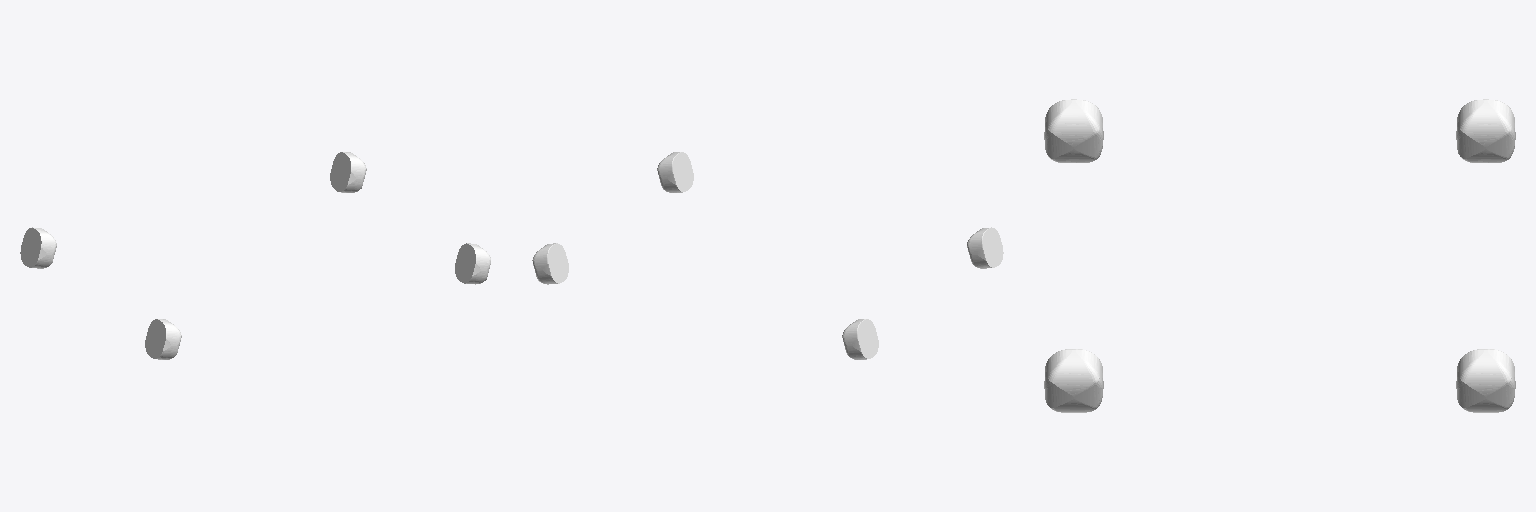
URDF robot description (TOE_dog):
<?xml version="1.0" encoding="utf-8"?>
<!-- This URDF was automatically created by SolidWorks to URDF Exporter! Originally created by [author] ([email redacted]) 
     Commit Version: 1.6.0-4-g7f85cfe  Build Version: 1.6.7995.38578
     For more information, please see http://wiki.ros.org/sw_urdf_exporter -->
<robot
  name="TOE_dog">
  <mujoco>
  <compiler 
    meshdir="[local-path]/my_dog/commpany/meshes/" 
    balanceinertia="true" 
    discardvisual="false" />
  </mujoco>
  <link
    name="base">
    <inertial>
      <origin
        xyz="-0.0032287234218103 7.70734400253109E-05 -0.00141709330891995"
        rpy="0 0 0" />
      <mass
        value="4.991" />
      <inertia
        ixx="0.05968549"
        ixy="0.00018883"
        ixz="0.00001699"
        iyy="0.06664420"
        iyz="-0.00008124"
        izz="0.01660556" />
    </inertial>
    <visual>
      <origin
        xyz="0 0 0"
        rpy="0 0 0" />
      <geometry>
        <mesh
          filename="../stl/TOE_base.STL" />
      </geometry>
      <material
        name="">
        <color
          rgba="0.752941176470588 0.752941176470588 0.752941176470588 1" />
      </material>
    </visual>
    <collision>
      <origin
        xyz="0 0 0"
        rpy="0 0 0" />
      <geometry>
        <box size="0.27 0.15 0.114" />
      </geometry>
    </collision>
  </link>
  <link
    name="FL_hip">
    <inertial>
      <origin
        xyz="-0.000462628009896944 0.00296787906267088 -0.000377200721687631"
        rpy="0 0 0" />
      <mass
        value="0.66990104" />
      <inertia
        ixx="0.00085128"
        ixy="0.00000557"
        ixz="0.00000844"
        iyy="0.00060962"
        iyz="-0.00000386"
        izz="0.00054593" />
    </inertial>
    <visual>
      <origin
        xyz="0 0 0"
        rpy="0 0 0" />
      <geometry>
        <mesh
          filename="../stl/TOE_FL_hip.STL" />
      </geometry>
      <material
        name="">
        <color
          rgba="0.752941176470588 0.752941176470588 0.752941176470588 1" />
      </material>
    </visual>
    <collision>
      <origin
        xyz="0 0.05 0"
        rpy="1.5708 0 0" />
      <geometry>
        <cylinder length="0.08" radius="0.046" />
      </geometry>
    </collision>
  </link>
  <joint
    name="FL_hip_joint"
    type="revolute">
    <origin
      xyz="0.2 0.05 0"
      rpy="0 0 0" />
    <parent
      link="base" />
    <child
      link="FL_hip" />
    <axis
      xyz="1 0 0" />
    <limit
      lower="-1"
      upper="1"
      effort="23"
      velocity="30" />
  </joint>
  <link
    name="FL_thigh">
    <inertial>
      <origin
        xyz="0.00026725027155268 -0.0225192600801335 -0.0253114510050126"
        rpy="0 0 0" />
      <mass
        value="1.05418577" />
      <inertia
        ixx="0.00411915"
        ixy="-0.00068756"
        ixz="0.00000908"
        iyy="0.00133059"
        iyz="0.00007733"
        izz="0.00435705" />
    </inertial>
    <visual>
      <origin
        xyz="0 0 0"
        rpy="0 0 0" />
      <geometry>
        <mesh
          filename="../stl/TOE_thigh.STL" />
      </geometry>
      <material
        name="">
        <color
          rgba="0.752941176470588 0.752941176470588 0.752941176470588 1" />
      </material>
    </visual>
    <collision>
      <origin rpy="0 1.5707963267948966 0" xyz="0 0 -0.11" />
      <geometry>
        <box size="0.11 0.0245 0.04" />
      </geometry>
    </collision>
  </link>
  <joint
    name="FL_thigh_joint"
    type="revolute">
    <origin
      xyz="0 0.08953 0"
      rpy="0 0 0" />
    <parent
      link="FL_hip" />
    <child
      link="FL_thigh" />
    <axis
      xyz="0 1 0" />
    <limit
      lower="-1.5"
      upper="2.5"
      effort="23"
      velocity="30" />
  </joint>
  <link
    name="FL_calf">
    <inertial>
      <origin
        xyz="0.00144797029171106 -1.62071723394386E-05 -0.0632711754855739"
        rpy="0 0 0" />
      <mass
        value="0.18000000" />
      <inertia
        ixx="0.00078062"
        ixy="0.00000002"
        ixz="-0.00000000"
        iyy="0.00003194"
        iyz="-0.00002855"
        izz="0.00077046" />
    </inertial>
    <visual>
      <origin
        xyz="0 0 0"
        rpy="0 0 0" />
      <geometry>
        <mesh
          filename="../stl/TOE_calf.STL" />
      </geometry>
      <material
        name="">
        <color
          rgba="0.752941176470588 0.752941176470588 0.752941176470588 1" />
      </material>
    </visual>
    <collision>
      <origin rpy="0 1.5708 0" xyz="0 0 -0.09" />
      <geometry>
        <box size="0.16 0.0245 0.04" />
      </geometry>
    </collision>
  </link>
  <joint
    name="FL_calf_joint"
    type="revolute">
    <origin
      xyz="0 0 -0.18"
      rpy="0 0 0" />
    <parent
      link="FL_thigh" />
    <child
      link="FL_calf" />
    <axis
      xyz="0 1 0" />
    <limit
      lower="-2.6"
      upper="-1"
      effort="35"
      velocity="20" />
  </joint>
  <link
    name="FL_foot">
    <inertial>
      <origin
        xyz="-0.00557718053910585 -3.98315304828145E-06 -0.00961668940835148"
        rpy="0 0 0" />
      <mass
        value="0.03219067" />
      <inertia
        ixx="0.00000519"
        ixy="-0.00000000"
        ixz="-0.00000000"
        iyy="0.00000657"
        iyz="-0.00000103"
        izz="0.00000528" />
    </inertial>
    <visual>
      <origin
        xyz="0 0 0"
        rpy="0 0 0" />
      <geometry>
        <mesh
          filename="../stl/TOE_foot.STL" />
      </geometry>
      <material
        name="">
        <color
          rgba="1 1 1 1" />
      </material>
    </visual>
    <collision>
      <origin
        xyz="0 0 0"
        rpy="0 0 0" />
      <geometry>
        <sphere radius="0.022" />
      </geometry>
    </collision>
  </link>
  <joint
    name="FL_foot_joint"
    type="fixed" dont_collapse="true">
    <origin
      xyz="0.00081567 0 -0.20051"
      rpy="0 -0.0012583 0" />
    <parent
      link="FL_calf" />
    <child
      link="FL_foot" />
    <axis
      xyz="0 0 0" />
  </joint>
  <link
    name="FR_hip">
    <inertial>
      <origin
        xyz="-0.000462628009896923 -0.00296787906267089 0.000377200721687548"
        rpy="0 0 0" />
      <mass
        value="0.66990104" />
      <inertia
        ixx="0.00085128"
        ixy="0.00000557"
        ixz="-0.00000844"
        iyy="0.00060962"
        iyz="0.00000386"
        izz="0.00054593" />
    </inertial>
    <visual>
      <origin
        xyz="0 0 0"
        rpy="0 0 0" />
      <geometry>
        <mesh
          filename="../stl/TOE_FR_hip.STL" />
      </geometry>
      <material
        name="">
        <color
          rgba="0.752941176470588 0.752941176470588 0.752941176470588 1" />
      </material>
    </visual>
    <collision>
      <origin rpy="1.5707963267948966 0 0" xyz="0 -0.05 0" />
      <geometry>
        <cylinder length="0.08" radius="0.046" />
      </geometry>
    </collision>
  </link>
  <joint
    name="FR_hip_joint"
    type="revolute">
    <origin
      xyz="0.2 -0.05 0"
      rpy="0 0 0" />
    <parent
      link="base" />
    <child
      link="FR_hip" />
    <axis
      xyz="1 0 0" />
    <limit
      lower="-1"
      upper="1"
      effort="23"
      velocity="30" />
  </joint>
  <link
    name="FR_thigh">
    <inertial>
      <origin
        xyz="-0.00052911 0.022389 -0.026316"
        rpy="0 0 0" />
      <mass
        value="1.05822138" />
      <inertia
        ixx="0.0041809"
        ixy="0.00071455"
        ixz="0.00001134"
        iyy="0.00133740"
        iyz="0.00005777"
        izz="0.00441914" />
    </inertial>
    <visual>
      <origin
        xyz="0 0 0"
        rpy="0 0 0" />
      <geometry>
        <mesh
          filename="../stl/TOE_R_thigh.STL" />
      </geometry>
      <material
        name="">
        <color
          rgba="0.75294 0.75294 0.75294 1" />
      </material>
    </visual>
    <collision>
      <origin rpy="0 1.5707963267948966 0" xyz="0 0 -0.11" />
      <geometry>
        <box size="0.11 0.0245 0.04" />
      </geometry>
    </collision>
  </link>
  <joint
    name="FR_thigh_joint"
    type="revolute">
    <origin
      xyz="0 -0.08953 0"
      rpy="0 0 0" />
    <parent
      link="FR_hip" />
    <child
      link="FR_thigh" />
    <axis
      xyz="0 1 0" />
    <limit
      lower="-1.5"
      upper="2.5"
      effort="23"
      velocity="30" />
  </joint>
  <link
    name="FR_calf">
    <inertial>
      <origin
        xyz="0.001447973557225 -1.62084641121552E-05 -0.0632711777197613"
        rpy="0 0 0" />
      <mass
        value="0.18000000" />
      <inertia
        ixx="0.00078062"
        ixy="0.00000002"
        ixz="0.00000000"
        iyy="0.00003194"
        iyz="-0.00002855"
        izz="0.00077046" />
    </inertial>
    <visual>
      <origin
        xyz="0 0 0"
        rpy="0 0 0" />
      <geometry>
        <mesh
          filename="../stl/TOE_calf.STL" />
      </geometry>
      <material
        name="">
        <color
          rgba="0.752941176470588 0.752941176470588 0.752941176470588 1" />
      </material>
    </visual>
    <collision>
      <origin rpy="0 1.5708 0" xyz="0 0 -0.09" />
      <geometry>
        <box size="0.16 0.0245 0.04" />
      </geometry>
    </collision>
  </link>
  <joint
    name="FR_calf_joint"
    type="revolute">
    <origin
      xyz="0 0 -0.18"
      rpy="0 0 0" />
    <parent
      link="FR_thigh" />
    <child
      link="FR_calf" />
    <axis
      xyz="0 1 0" />
    <limit
      lower="-2.6"
      upper="-1"
      effort="35"
      velocity="20" />
  </joint>
  <link
    name="FR_foot">
    <inertial>
      <origin
        xyz="-0.0055772 -3.9832E-06 -0.0096167"
        rpy="0 0 0" />
      <mass
        value="0.03219067" />
      <inertia
        ixx="0.00000519"
        ixy="-0.00000000"
        ixz="-0.00000000"
        iyy="0.00000657"
        iyz="0.00000103"
        izz="0.00000528" />
    </inertial>
    <visual>
      <origin
        xyz="0 0 0"
        rpy="0 0 0" />
      <geometry>
        <mesh
          filename="../stl/TOE_foot.STL" />
      </geometry>
      <material
        name="">
        <color
          rgba="1 1 1 1" />
      </material>
    </visual>
    <collision>
      <origin
        xyz="0 0 0"
        rpy="0 0 0" />
      <geometry>
        <sphere radius="0.022" />
      </geometry>
    </collision>
  </link>
  <joint
    name="FR_foot_joint"
    type="fixed" dont_collapse="true">
    <origin
      xyz="0.00081567 0 -0.20051"
      rpy="0 -0.0012583 0" />
    <parent
      link="FR_calf" />
    <child
      link="FR_foot" />
    <axis
      xyz="0 0 0" />
  </joint>
    <link
    name="RL_hip">
    <inertial>
      <origin
        xyz="0.00046262797964941 0.00296787909188655 0.000377200771965971"
        rpy="0 0 0" />
      <mass
        value="0.66990104" />
      <inertia
        ixx="0.00085128"
        ixy="-0.00000557"
        ixz="-0.00000844"
        iyy="0.00060962"
        iyz="-0.00000386"
        izz="0.00054593" />
    </inertial>
    <visual>
      <origin
        xyz="0 0 0"
        rpy="0 0 0" />
      <geometry>
        <mesh
          filename="../stl/TOE_RL_hip.STL" />
      </geometry>
      <material
        name="">
        <color
          rgba="0.752941176470588 0.752941176470588 0.752941176470588 1" />
      </material>
    </visual>
    <collision>
      <origin rpy="1.5707963267948966 0 0" xyz="0 0.05 0" />
      <geometry>
        <cylinder length="0.08" radius="0.046" />
      </geometry>
    </collision>
  </link>
  <joint
    name="RL_hip_joint"
    type="revolute">
    <origin
      xyz="-0.2 0.05 0"
      rpy="0 0 0" />
    <parent
      link="base" />
    <child
      link="RL_hip" />
    <axis
      xyz="1 0 0" />
    <limit
      lower="-1"
      upper="1"
      effort="23"
      velocity="30" />
  </joint>
  <link
    name="RL_thigh">
    <inertial>
      <origin
        xyz="0.00026725025835711 -0.0225192600682941 -0.0253114510097742"
        rpy="0 0 0" />
      <mass
        value="1.05418577" />
      <inertia
        ixx="0.00411412"
        ixy="-0.00068893"
        ixz="0.00000929"
        iyy="0.00133001"
        iyz="0.00007658"
        izz="0.00435167" />
    </inertial>
    <visual>
      <origin
        xyz="0 0 0"
        rpy="0 0 0" />
      <geometry>
        <mesh
          filename="../stl/TOE_thigh.STL" />
      </geometry>
      <material
        name="">
        <color
          rgba="0.752941176470588 0.752941176470588 0.752941176470588 1" />
      </material>
    </visual>
    <collision>
      <origin rpy="0 1.5707963267948966 0" xyz="0 0 -0.11" />
      <geometry>
        <box size="0.11 0.0245 0.04" />
      </geometry>
    </collision>
  </link>
  <joint
    name="RL_thigh_joint"
    type="revolute">
    <origin
      xyz="0 0.08953 0"
      rpy="0 0 0" />
    <parent
      link="RL_hip" />
    <child
      link="RL_thigh" />
    <axis
      xyz="0 1 0" />
    <limit
      lower="-1.5"
      upper="2.5"
      effort="23"
      velocity="30" />
  </joint>
  <link
    name="RL_calf">
    <inertial>
      <origin
        xyz="0.00144797036282751 -1.62075761347136E-05 -0.0632711864020849"
        rpy="0 0 0" />
      <mass
        value="0.18000000" />
      <inertia
        ixx="0.00078062"
        ixy="0.00000002"
        ixz="-0.00000000"
        iyy="0.00003194"
        iyz="-0.00002855"
        izz="0.00077046" />
    </inertial>
    <visual>
      <origin
        xyz="0 0 0"
        rpy="0 0 0" />
      <geometry>
        <mesh
          filename="../stl/TOE_calf.STL" />
      </geometry>
      <material
        name="">
        <color
          rgba="0.752941176470588 0.752941176470588 0.752941176470588 1" />
      </material>
    </visual>
    <collision>
      <origin rpy="0 1.5708 0" xyz="0 0 -0.09" />
      <geometry>
        <box size="0.16 0.0245 0.04" />
      </geometry>
    </collision>
  </link>
  <joint
    name="RL_calf_joint"
    type="revolute">
    <origin
      xyz="0 0 -0.18"
      rpy="0 0 0" />
    <parent
      link="RL_thigh" />
    <child
      link="RL_calf" />
    <axis
      xyz="0 1 0" />
    <limit
      lower="-2.6"
      upper="-1"
      effort="35"
      velocity="20" />
  </joint>
  <link
    name="RL_foot">
    <inertial>
      <origin
        xyz="-0.00557718053910572 -3.98315304828145E-06 -0.00961668940835148"
        rpy="0 0 0" />
      <mass
        value="0.03219067" />
      <inertia
        ixx="0.00000519"
        ixy="-0.00000000"
        ixz="-0.00000000"
        iyy="0.00000657"
        iyz="-0.00000103"
        izz="0.00000528" />
    </inertial>
    <visual>
      <origin
        xyz="0 0 0"
        rpy="0 0 0" />
      <geometry>
        <mesh
          filename="../stl/TOE_foot.STL" />
      </geometry>
      <material
        name="">
        <color
          rgba="1 1 1 1" />
      </material>
    </visual>
    <collision>
      <origin
        xyz="0 0 0"
        rpy="0 0 0" />
      <geometry>
        <sphere radius="0.022" />
      </geometry>
    </collision>
  </link>
  <joint
    name="RL_foot_joint"
    type="fixed" dont_collapse="true">
    <origin
      xyz="0.00081567 0 -0.20051"
      rpy="0 -0.0012583 0" />
    <parent
      link="RL_calf" />
    <child
      link="RL_foot" />
    <axis
      xyz="0 0 0" />
  </joint>
  <link
    name="RR_hip">
    <inertial>
      <origin
        xyz="0.000462627948810912 -0.00296787907848253 -0.000377200749208193"
        rpy="0 0 0" />
      <mass
        value="0.66990104" />
      <inertia
        ixx="0.00085128"
        ixy="-0.00000557"
        ixz="0.00000844"
        iyy="0.00060962"
        iyz="0.00000386"
        izz="0.00054593" />
    </inertial>
    <visual>
      <origin
        xyz="0 0 0"
        rpy="0 0 0" />
      <geometry>
        <mesh
          filename="../stl/TOE_RR_hip.STL" />
      </geometry>
      <material
        name="">
        <color
          rgba="0.752941176470588 0.752941176470588 0.752941176470588 1" />
      </material>
    </visual>
    <collision>
      <origin rpy="1.5707963267948966 0 0" xyz="0 -0.05 0" />
      <geometry>
        <cylinder length="0.08" radius="0.046" />
      </geometry>
    </collision>
  </link>
  <joint
    name="RR_hip_joint"
    type="revolute">
    <origin
      xyz="-0.2 -0.05 0"
      rpy="0 0 0" />
    <parent
      link="base" />
    <child
      link="RR_hip" />
    <axis
      xyz="1 0 0" />
    <limit
      lower="-1"
      upper="1"
      effort="23"
      velocity="30" />
  </joint>
  <link
    name="RR_thigh">
    <inertial>
      <origin
        xyz="-0.000529112929206821 0.0223886518464307 -0.026316165403537"
        rpy="0 0 0" />
      <mass
        value="1.05822138" />
      <inertia
        ixx="0.00418090"
        ixy="0.00071455"
        ixz="0.00001134"
        iyy="0.00133740"
        iyz="0.00005777"
        izz="0.00441914" />
    </inertial>
    <visual>
      <origin
        xyz="0 0 0"
        rpy="0 0 0" />
      <geometry>
        <mesh
          filename="../stl/TOE_R_thigh.STL" />
      </geometry>
      <material
        name="">
        <color
          rgba="0.752941176470588 0.752941176470588 0.752941176470588 1" />
      </material>
    </visual>
    <collision>
      <origin rpy="0 1.5707963267948966 0" xyz="0 0 -0.11" />
      <geometry>
        <box size="0.11 0.0245 0.04" />
      </geometry>
    </collision>
  </link>
  <joint
    name="RR_thigh_joint"
    type="revolute">
    <origin
      xyz="0 -0.08953 0"
      rpy="0 0 0" />
    <parent
      link="RR_hip" />
    <child
      link="RR_thigh" />
    <axis
      xyz="0 1 0" />
    <limit
      lower="-1.5"
      upper="2.5"
      effort="23"
      velocity="30" />
  </joint>
  <link
    name="RR_calf">
    <inertial>
      <origin
        xyz="0.00144796967229593 -1.62073079078007E-05 -0.0632711656523452"
        rpy="0 0 0" />
      <mass
        value="0.18000000" />
      <inertia
        ixx="0.00078062"
        ixy="0.00000002"
        ixz="-0.00000000"
        iyy="0.00003194"
        iyz="-0.00002855"
        izz="0.00077046" />
    </inertial>
    <visual>
      <origin
        xyz="0 0 0"
        rpy="0 0 0" />
      <geometry>
        <mesh
          filename="../stl/TOE_calf.STL" />
      </geometry>
      <material
        name="">
        <color
          rgba="0.752941176470588 0.752941176470588 0.752941176470588 1" />
      </material>
    </visual>
    <collision>
      <origin rpy="0 1.5708 0" xyz="0 0 -0.09" />
      <geometry>
        <box size="0.16 0.0245 0.04" />
      </geometry>
    </collision>
  </link>
  <joint
    name="RR_calf_joint"
    type="revolute">
    <origin
      xyz="0 0 -0.18"
      rpy="0 0 0" />
    <parent
      link="RR_thigh" />
    <child
      link="RR_calf" />
    <axis
      xyz="0 1 0" />
    <limit
      lower="-2.6"
      upper="-1"
      effort="35"
      velocity="20" />
  </joint>
  <link
    name="RR_foot">
    <inertial>
      <origin
        xyz="-0.00557718054766365 -3.98323834327474E-06 -0.00961668941940308"
        rpy="0 0 0" />
      <mass
        value="0.03219067" />
      <inertia
        ixx="0.00000519"
        ixy="-0.00000000"
        ixz="-0.00000000"
        iyy="0.00000657"
        iyz="-0.00000103"
        izz="0.00000528" />
    </inertial>
    <visual>
      <origin
        xyz="0 0 0"
        rpy="0 0 0" />
      <geometry>
        <mesh
          filename="../stl/TOE_foot.STL" />
      </geometry>
      <material
        name="">
        <color
          rgba="1 1 1 1" />
      </material>
    </visual>
    <collision>
      <origin rpy="0 0 0" xyz="-0.002 0 0" />
      <geometry>
        <sphere radius="0.022" />
      </geometry>
    </collision>
  </link>
  <joint
    name="RR_foot_joint"
    type="fixed" dont_collapse="true">
    <origin
      xyz="0.00081567 0 -0.20051"
      rpy="0 -0.0012583 0" />
    <parent
      link="RR_calf" />
    <child
      link="RR_foot" />
  </joint>
</robot>

--- Facts derived from the render (not from the file) ---
The picture shows the robot from 3 angles, left to right: view 1: azimuth 30°, elevation 25°; view 2: azimuth 150°, elevation 25°; view 3: azimuth 270°, elevation 25°; orthographic projection.
Robot: TOE_dog — 17 links, 16 joints (12 revolute, 4 fixed); root link base; default pose: joints at zero except 4 at the middle of their limits (FL_calf_joint = -1.8, FR_calf_joint = -1.8, RL_calf_joint = -1.8, RR_calf_joint = -1.8).
Links seen in each view (by area): view 1: FL_foot, RL_foot, RR_foot, FR_foot; view 2: FR_foot, RL_foot, FL_foot, RR_foot; view 3: FL_foot, FR_foot, RR_foot, RL_foot.
Link boxes in pixels (x1,y1,x2,y2): FL_foot: [330, 152, 366, 192]; RL_foot: [20, 227, 56, 268]; RR_foot: [145, 319, 181, 359]; FR_foot: [455, 243, 490, 284]; FR_foot: [657, 152, 693, 192]; RL_foot: [842, 319, 878, 359]; FL_foot: [532, 243, 568, 284]; RR_foot: [967, 227, 1003, 268]; FL_foot: [1456, 349, 1515, 412]; FR_foot: [1044, 349, 1103, 412]; RR_foot: [1044, 99, 1103, 162]; RL_foot: [1456, 99, 1515, 162].
Size in the robot's own frame: 0.4316 by 0.3191 by 0.0455 metres.
Meshes: 9 distinct files referenced, 4 mesh visuals loaded (1 binary STL); not drawn: 13 (reference not matched to a file when rendering).